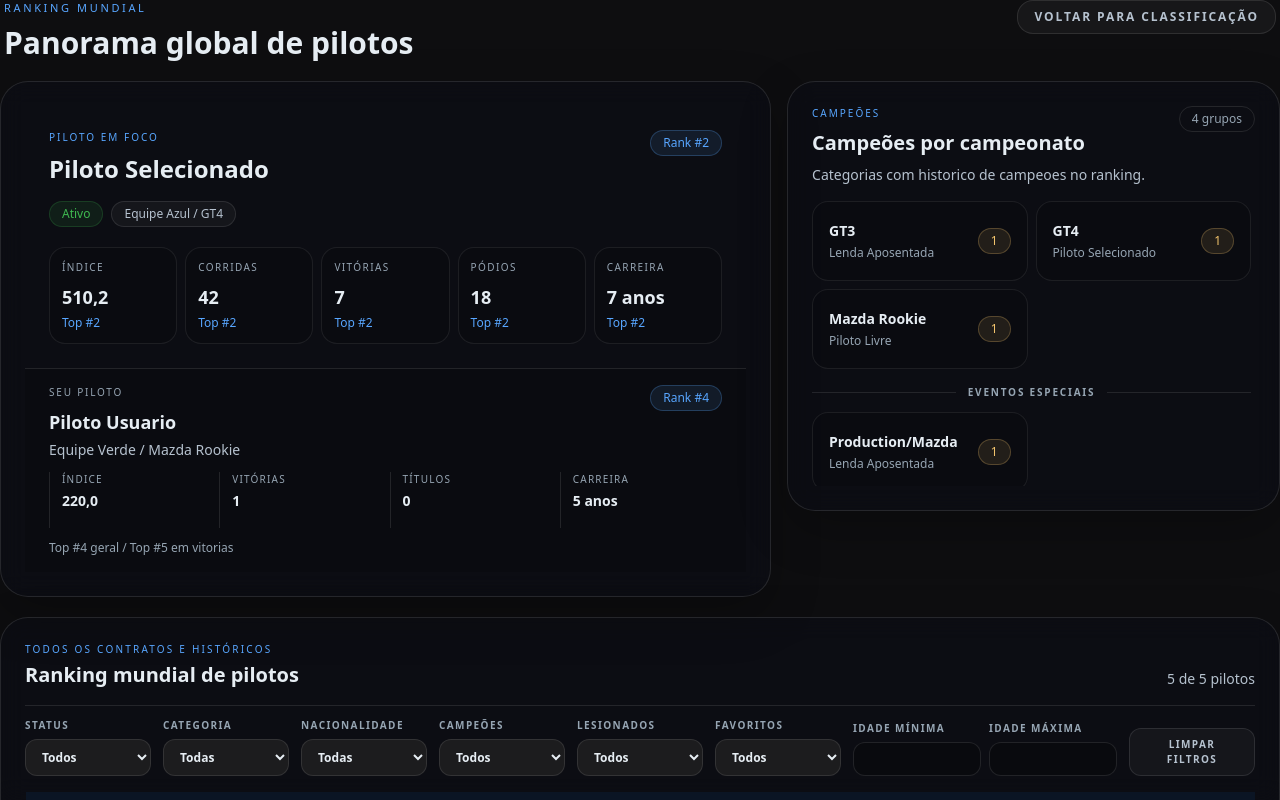
GlobalDriversTab › recalculates the # column and the delta among active drivers when status is Ativo
Select "Ativos" in the dropdown labelled "Status". click: point(88, 757)
box: [25,738,151,776]
(page scrolled)
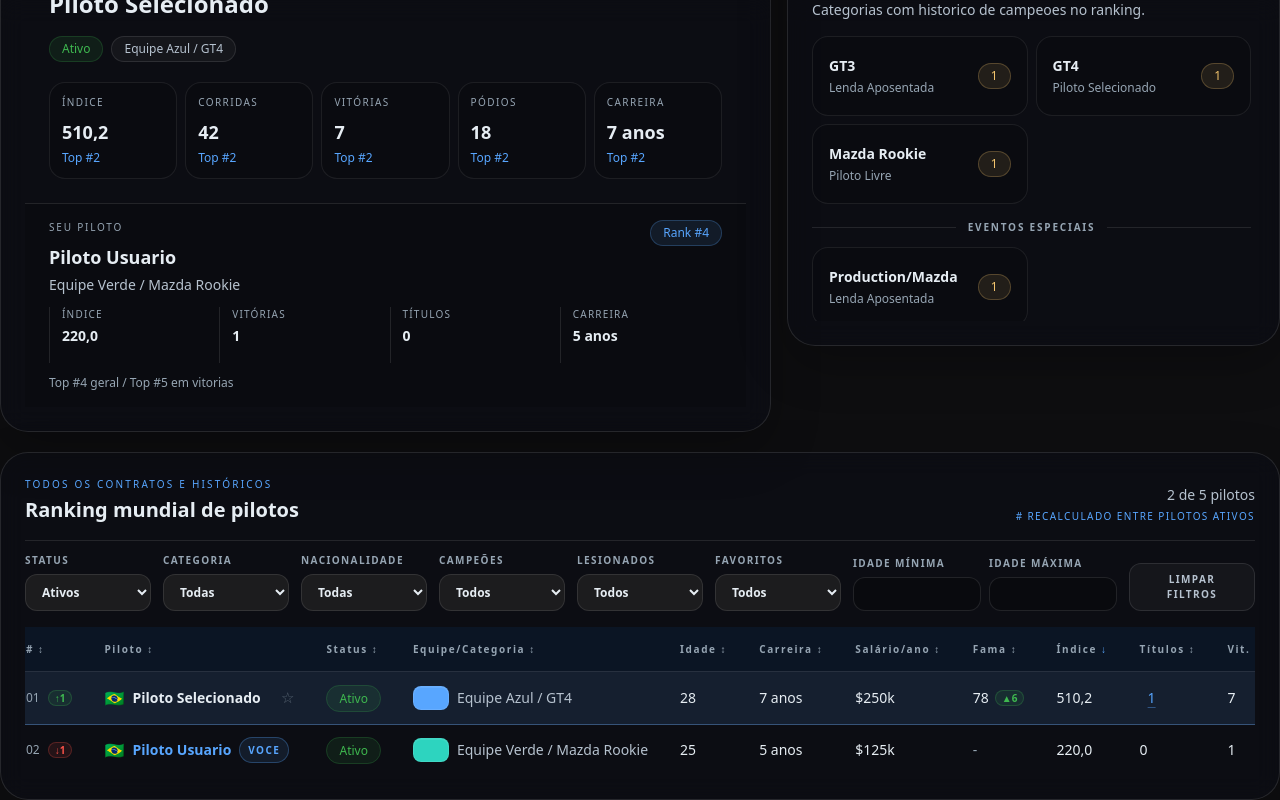
Check: the text "01" is shown, box [26,690,40,706]
Check: the text "02" is shown, box [26,742,40,758]
Check: the text "# recalculado entre pilotos ativos" is shown, box [1016,508,1255,524]
